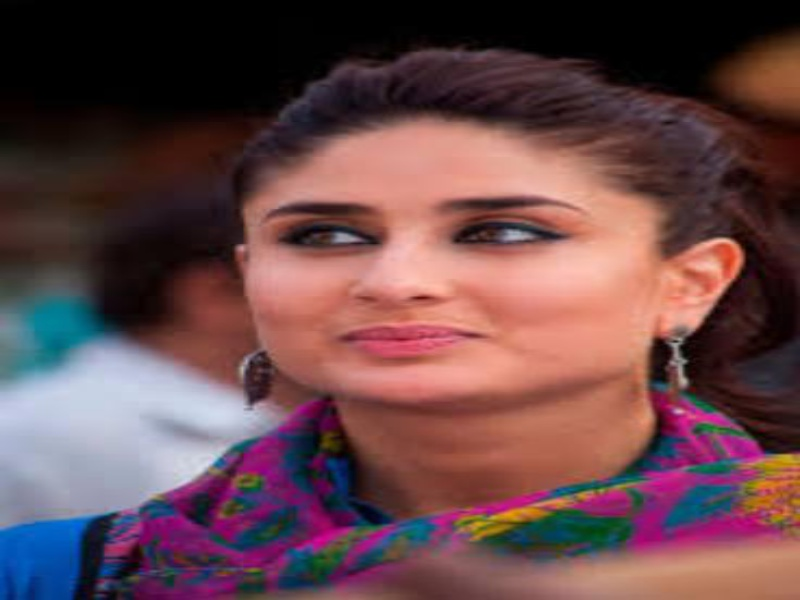TsisyArotava: (216, 60, 721, 401)
